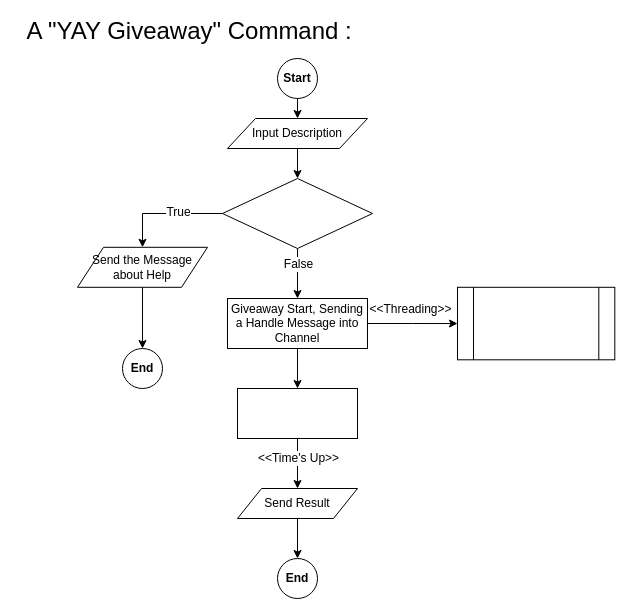
This 632x616 diagram has some shape labels left out. Here are the shapes that lost their labels. From the top down, the centre of each, then its label:
At point 297,213: "Description Empty".
At point 535,323: "Waiting_for_Reaction".
At point 297,413: "Setting Time Waiting for 1 day".
